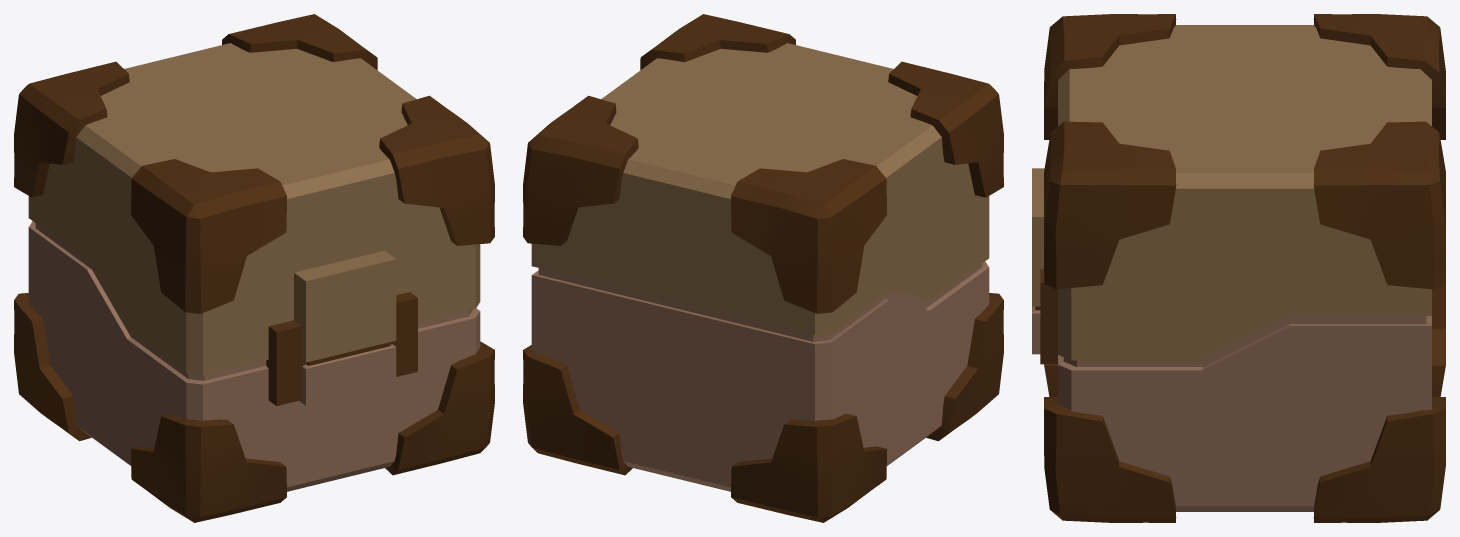
Rendered from quaternius-ultimate-space-pack-pickup-crate-transformed.glb.
3 views of the same model, side by side, from view 1: azimuth 30°, elevation 25°; view 2: azimuth 150°, elevation 25°; view 3: azimuth 270°, elevation 25° (orthographic). The views are drawn at different scales.
Parts seen in each view (by area): view 1: Pickup_Crate; view 2: Pickup_Crate; view 3: Pickup_Crate.
Boxes of the visible parts, x1,y1,x2,y2 form: Pickup_Crate: [14, 14, 494, 522]; Pickup_Crate: [523, 14, 1003, 522]; Pickup_Crate: [1032, 14, 1445, 522].
Bounding box in the file's own units: 0.8729 × 0.8576 × 0.899.
1 material, 1 textured.
